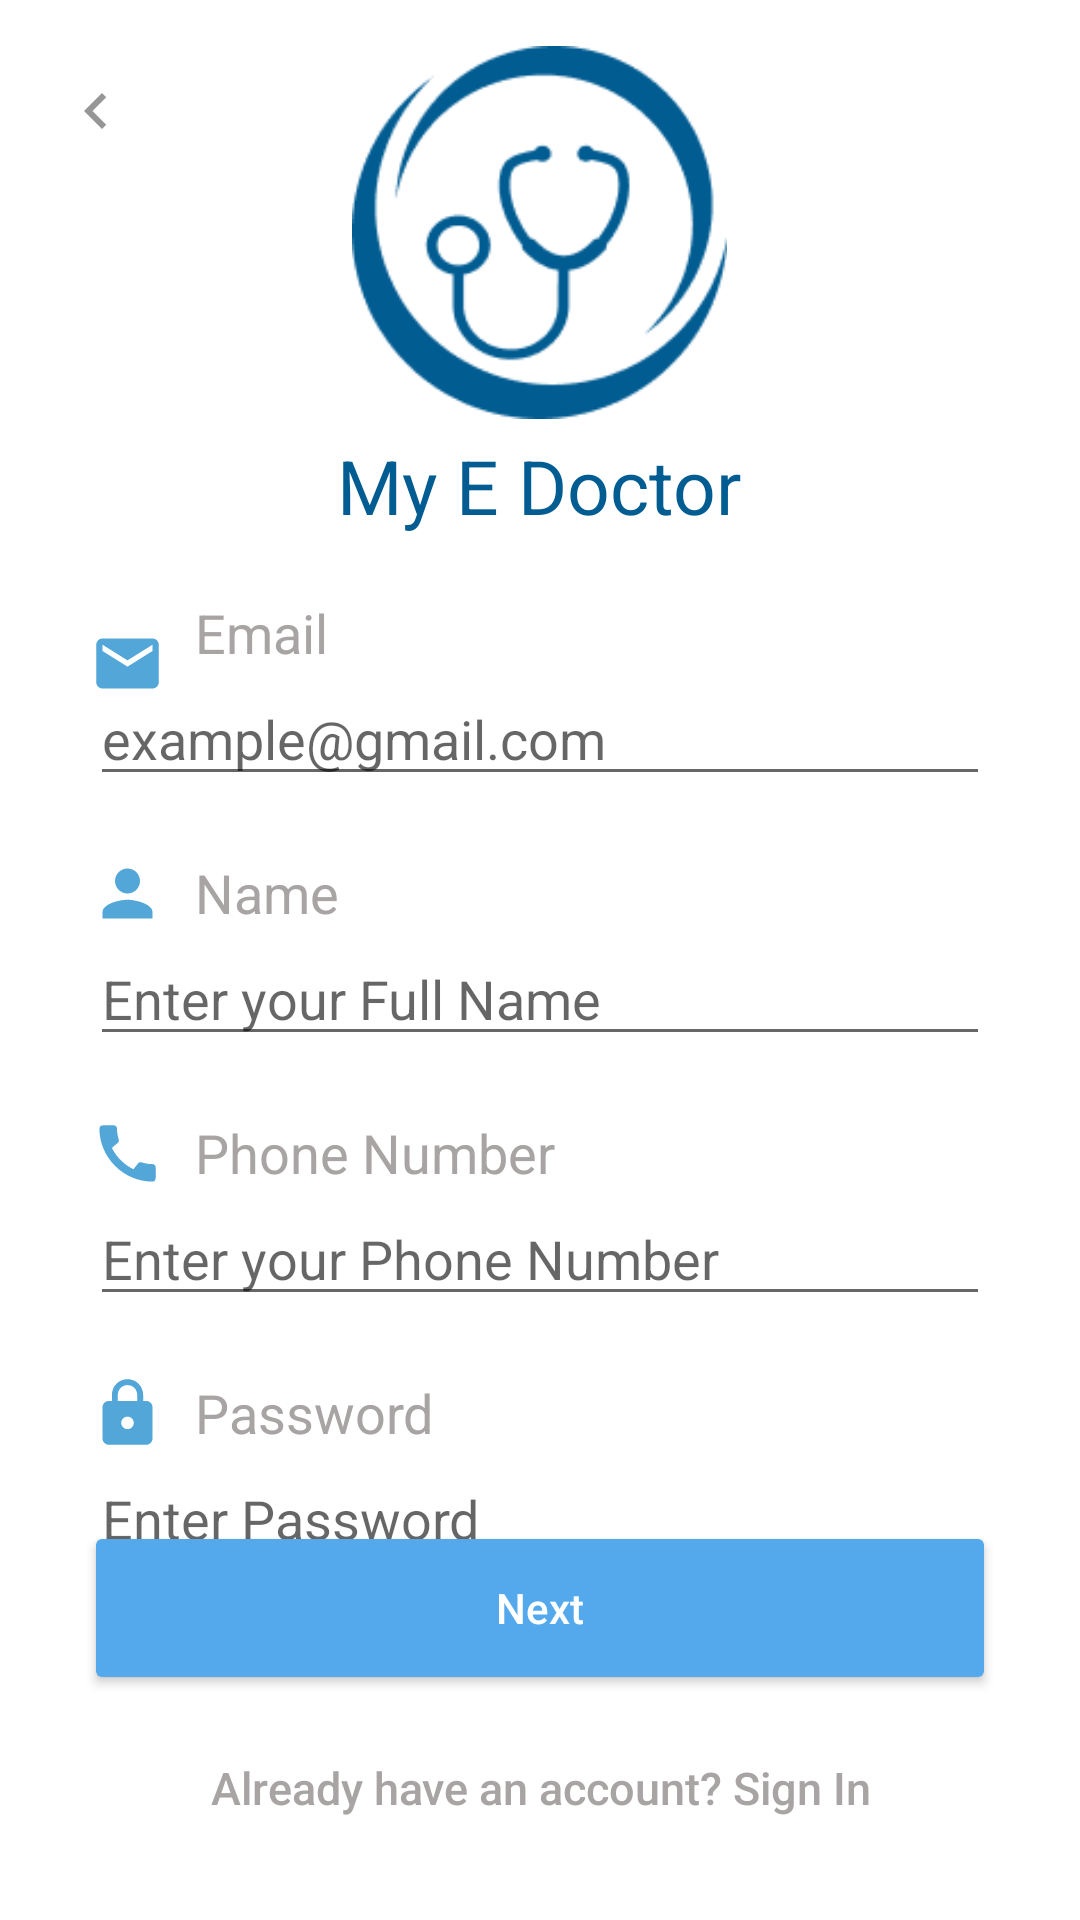

Locate icon controls on the screen. Image size 1080px×1920px, boxes as (x1, y1, x2, y2).
back: (84, 93, 106, 129)
person: (102, 868, 153, 919)
